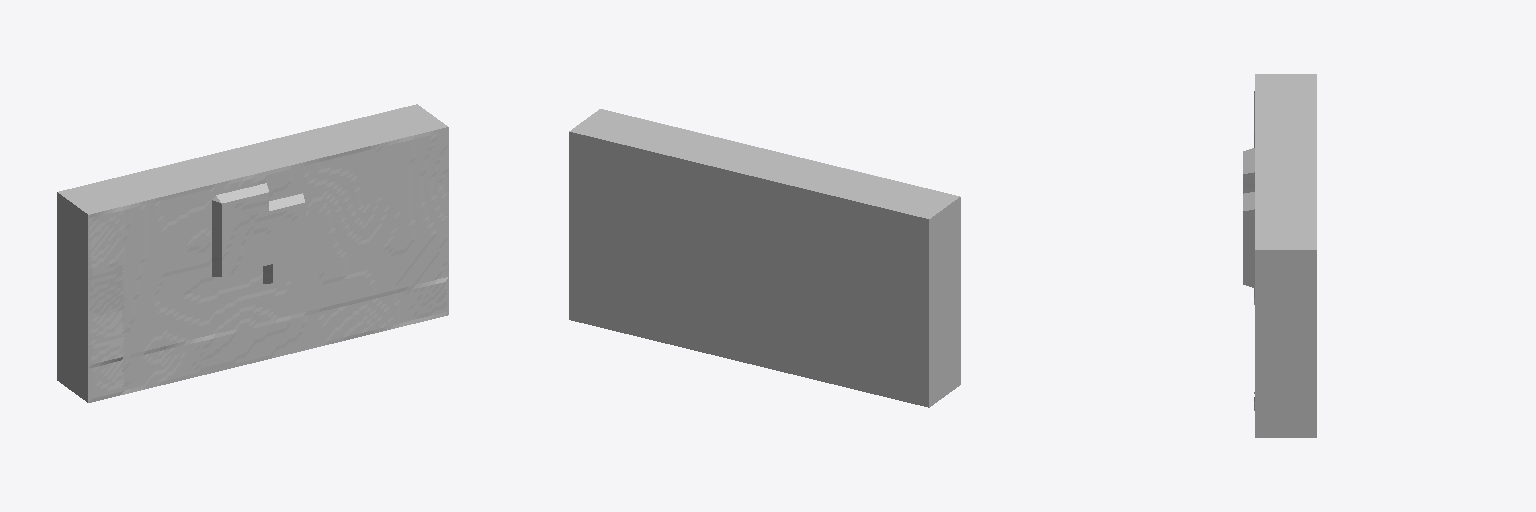
File: rectangular_prism_bumps_5_6.obj
The picture shows the model from 3 angles: view 1: azimuth 30°, elevation 25°; view 2: azimuth 150°, elevation 25°; view 3: azimuth 270°, elevation 25°; orthographic projection.
Bounding box in the file's own units: 10 × 5 × 1.8.